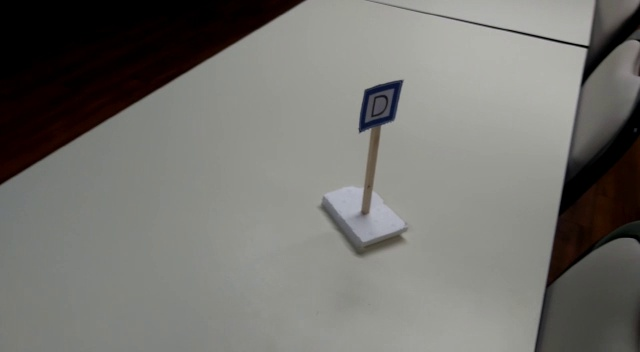durak: (358, 80, 401, 129)
